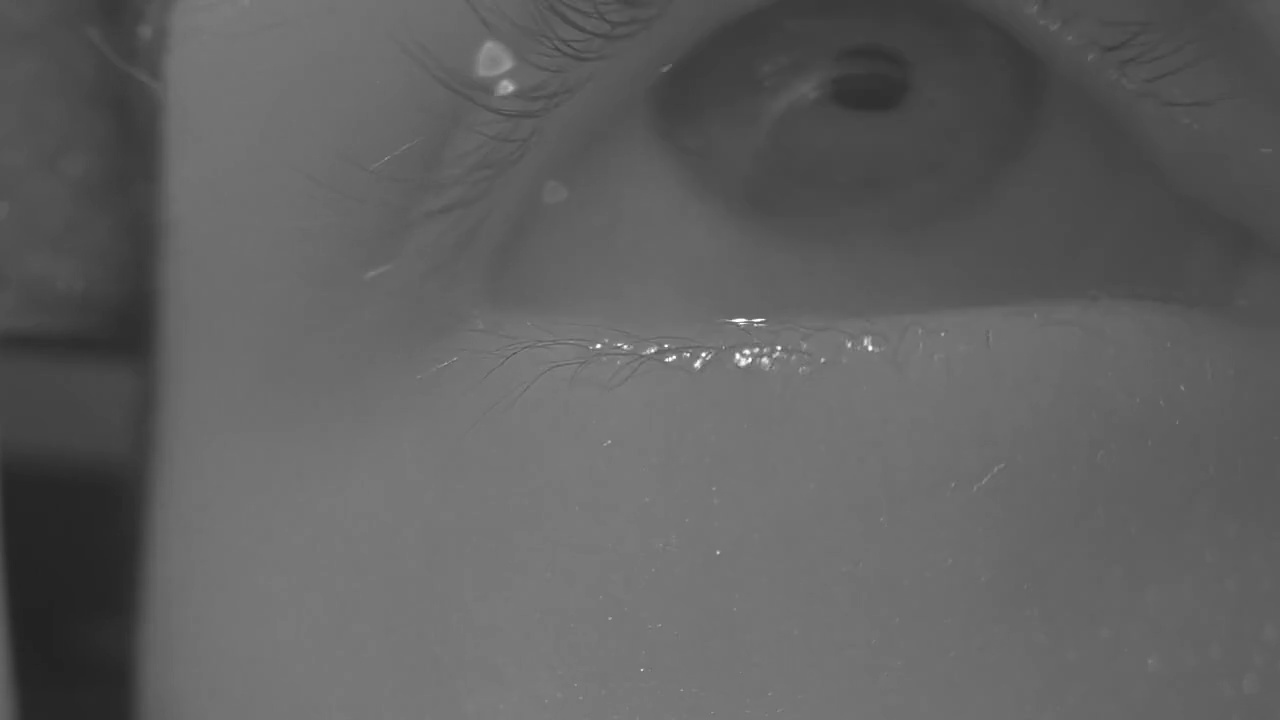pupil: (829, 42, 911, 116)
